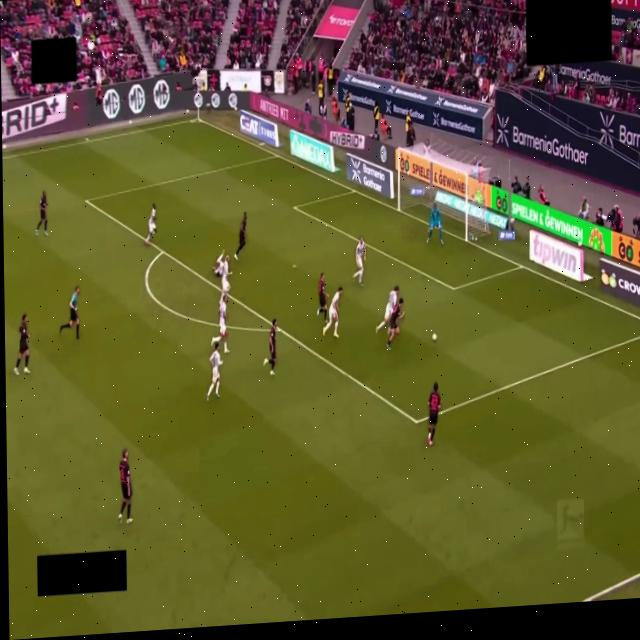ball: (432, 333, 436, 340)
player: (376, 286, 399, 332), (211, 294, 228, 353), (119, 449, 132, 524), (206, 342, 222, 402), (14, 315, 30, 374), (323, 288, 342, 337), (387, 298, 403, 350), (428, 382, 440, 445), (264, 319, 276, 375), (427, 203, 443, 244), (234, 212, 247, 259), (35, 191, 48, 236), (353, 238, 365, 286), (317, 273, 328, 321), (146, 204, 156, 244), (221, 256, 230, 294), (213, 250, 224, 277)
referee: (60, 286, 79, 338)
